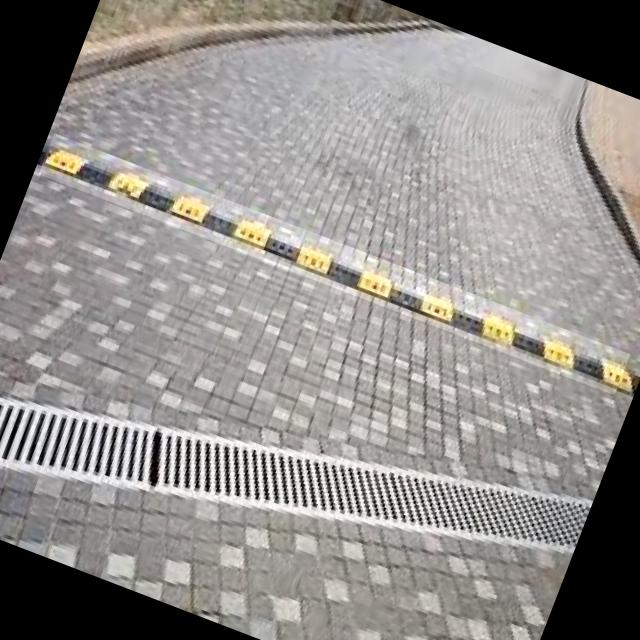bump: (38, 134, 630, 396)
